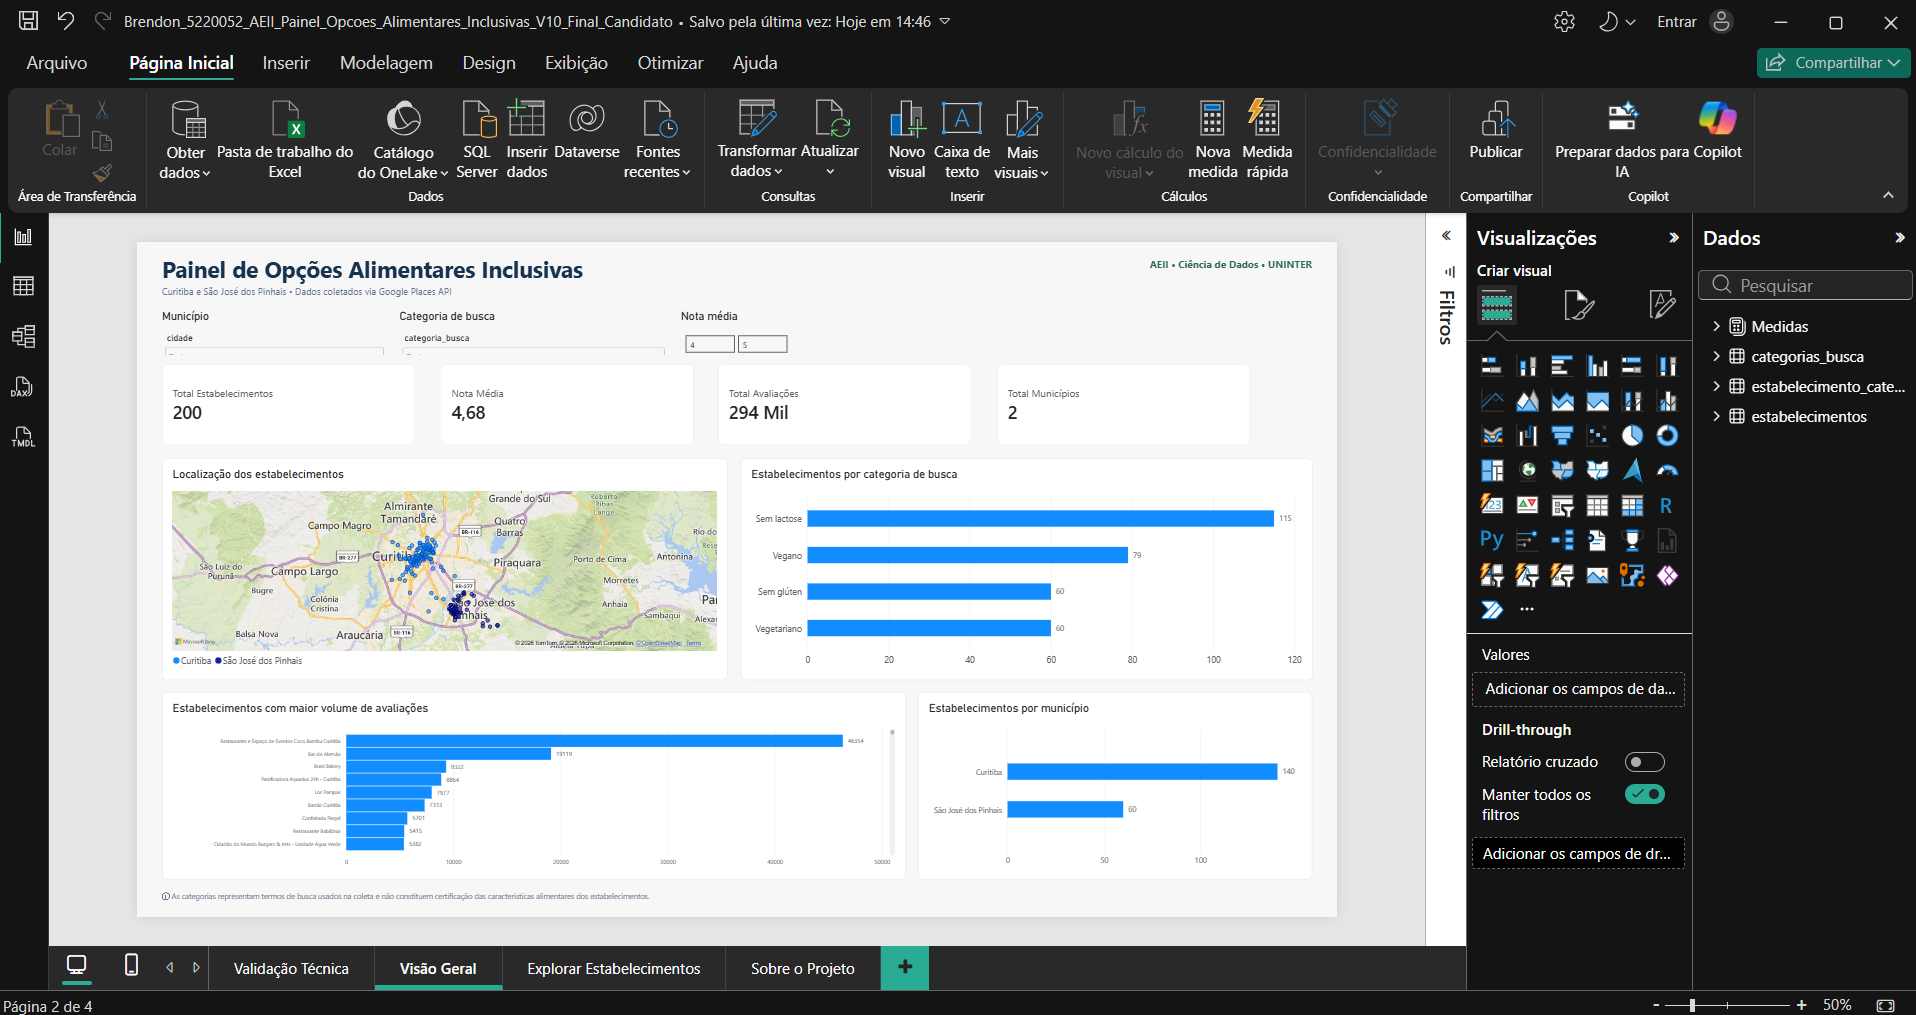

The dashboard page shown, as its layout file describes it:
{"tool":"powerbi","page":{"name":"Visão Geral","canvas":[1920,1080],"ordinal":1},"visuals":[{"type":"textbox","box":[40,18,1360,50],"z":0},{"type":"textbox","box":[40,68,1360,28],"z":1},{"type":"slicer","title":"Município","fields":{"Values":["estabelecimentos.cidade"]},"box":[40,108,360,72],"z":2},{"type":"slicer","title":"Categoria de busca","fields":{"Values":["categorias_busca.categoria_busca"]},"box":[420,108,430,72],"z":3},{"type":"slicer","title":"Nota média","fields":{"Values":["estabelecimentos.nota_media"]},"box":[870,108,360,72],"z":4},{"type":"cardVisual","fields":{"Data":["Medidas.Total Estabelecimentos"]},"box":[40,195,405,128],"z":5},{"type":"cardVisual","fields":{"Data":["Medidas.Nota Média"]},"box":[485,195,405,128],"z":6},{"type":"cardVisual","fields":{"Data":["Medidas.Total Avaliações"]},"box":[930,195,405,128],"z":7},{"type":"cardVisual","fields":{"Data":["Medidas.Total Municípios"]},"box":[1375,195,405,128],"z":8},{"type":"map","title":"Localização dos estabelecimentos","fields":{"Y":["estabelecimentos.latitude"],"X":["estabelecimentos.longitude"],"Series":["estabelecimentos.cidade"]},"box":[40,345,905,315],"z":9},{"type":"clusteredBarChart","title":"Estabelecimentos por categoria de busca","fields":{"Category":["categorias_busca.categoria_busca"],"Y":["Medidas.Estabelecimentos por Categoria"]},"box":[965,345,915,315],"z":10},{"type":"clusteredBarChart","title":"Estabelecimentos com maior volume de avaliações","fields":{"Category":["estabelecimentos.nome"],"Y":["Medidas.Total Avaliações"]},"box":[40,675,1190,360],"z":11},{"type":"clusteredBarChart","title":"Estabelecimentos por município","fields":{"Category":["estabelecimentos.cidade"],"Y":["Medidas.Total Estabelecimentos"]},"box":[1250,675,630,360],"z":12},{"type":"textbox","box":[1430,24,450,52],"z":13},{"type":"textbox","box":[40,1042,1840,24],"z":14}]}

Visuals, with their boxes on the page's 1920x1080 design canvas (x1, y1, x2, y2). These are canvas units, not pixel positions in the 1916x1015 screenshot, which may show the page scaled, cropped or inside an application window:
textbox: BBox(40, 18, 1400, 68)
textbox: BBox(40, 68, 1400, 96)
"Município" slicer: BBox(40, 108, 400, 180)
"Categoria de busca" slicer: BBox(420, 108, 850, 180)
"Nota média" slicer: BBox(870, 108, 1230, 180)
cardVisual - Medidas.Total Estabelecimentos: BBox(40, 195, 445, 323)
cardVisual - Medidas.Nota Média: BBox(485, 195, 890, 323)
cardVisual - Medidas.Total Avaliações: BBox(930, 195, 1335, 323)
cardVisual - Medidas.Total Municípios: BBox(1375, 195, 1780, 323)
"Localização dos estabelecimentos" map: BBox(40, 345, 945, 660)
"Estabelecimentos por categoria de busca" clusteredBarChart: BBox(965, 345, 1880, 660)
"Estabelecimentos com maior volume de avaliações" clusteredBarChart: BBox(40, 675, 1230, 1035)
"Estabelecimentos por município" clusteredBarChart: BBox(1250, 675, 1880, 1035)
textbox: BBox(1430, 24, 1880, 76)
textbox: BBox(40, 1042, 1880, 1066)
